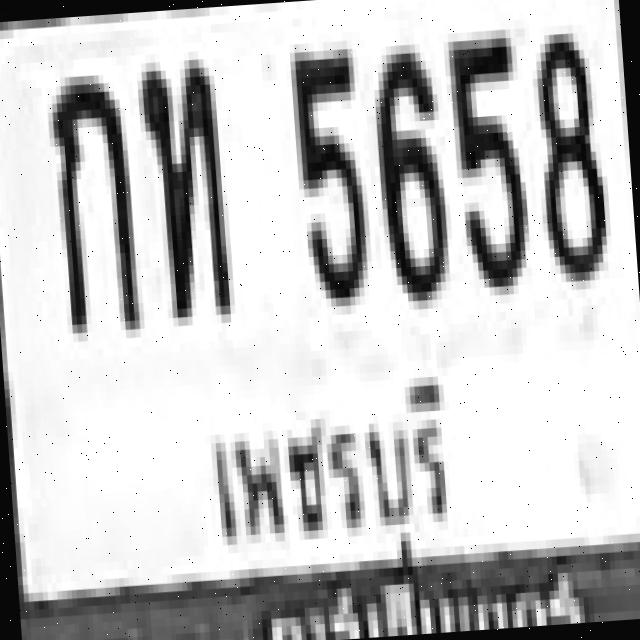10GorGai: (44, 65, 134, 334)
32ThorThaHan: (135, 49, 230, 318)
5: (284, 39, 369, 300), (442, 28, 527, 288)
6: (366, 34, 446, 294)
8: (528, 23, 604, 274)
Phetchaburi: (184, 352, 476, 578)
